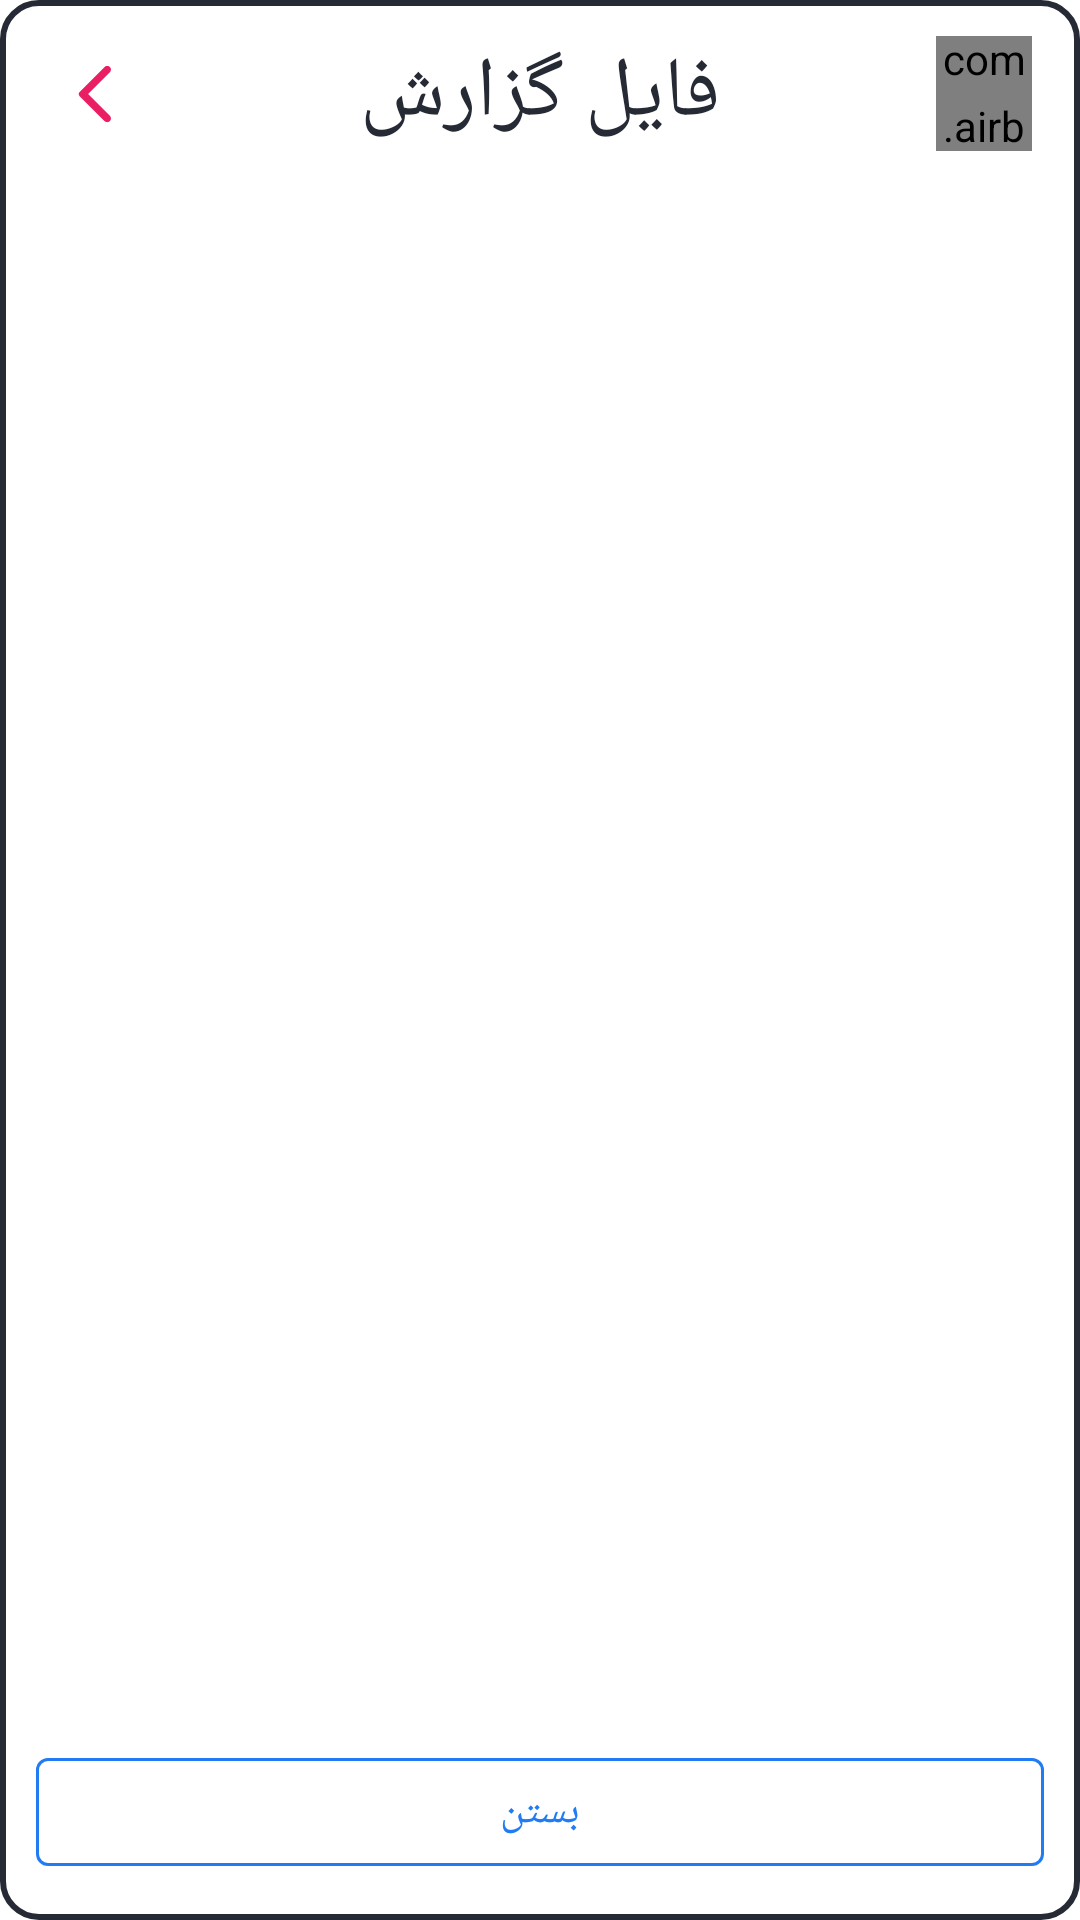

Point at icon controls on the screen. Image size 1080*1920, points as (x=x, y=y).
arrow back: (x=94, y=94)
